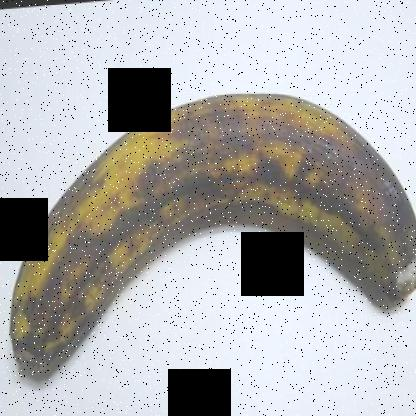overripe: (1, 53, 415, 414)
